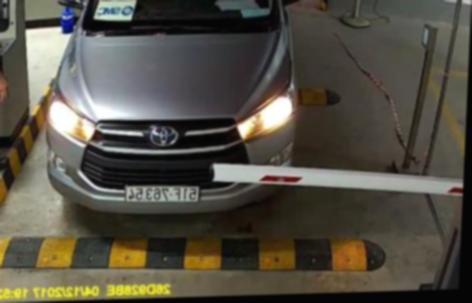License_Plate: (118, 175, 207, 210)
